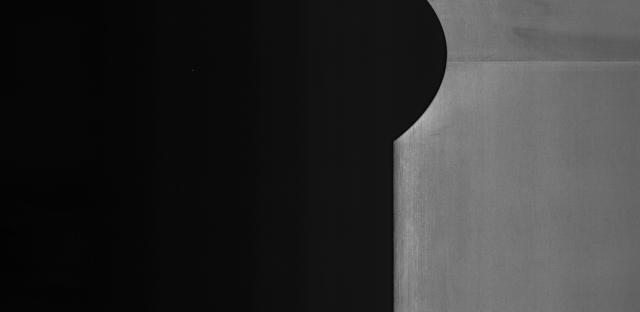crescent_gap: (366, 1, 474, 145)
welding_line: (432, 49, 640, 73)
